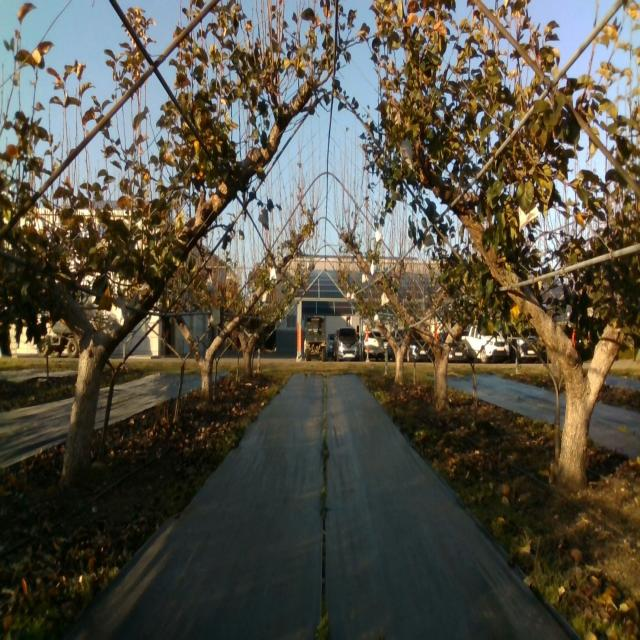pearbags: (518, 196, 539, 230), (399, 139, 415, 174), (109, 295, 126, 327), (258, 206, 269, 231)
